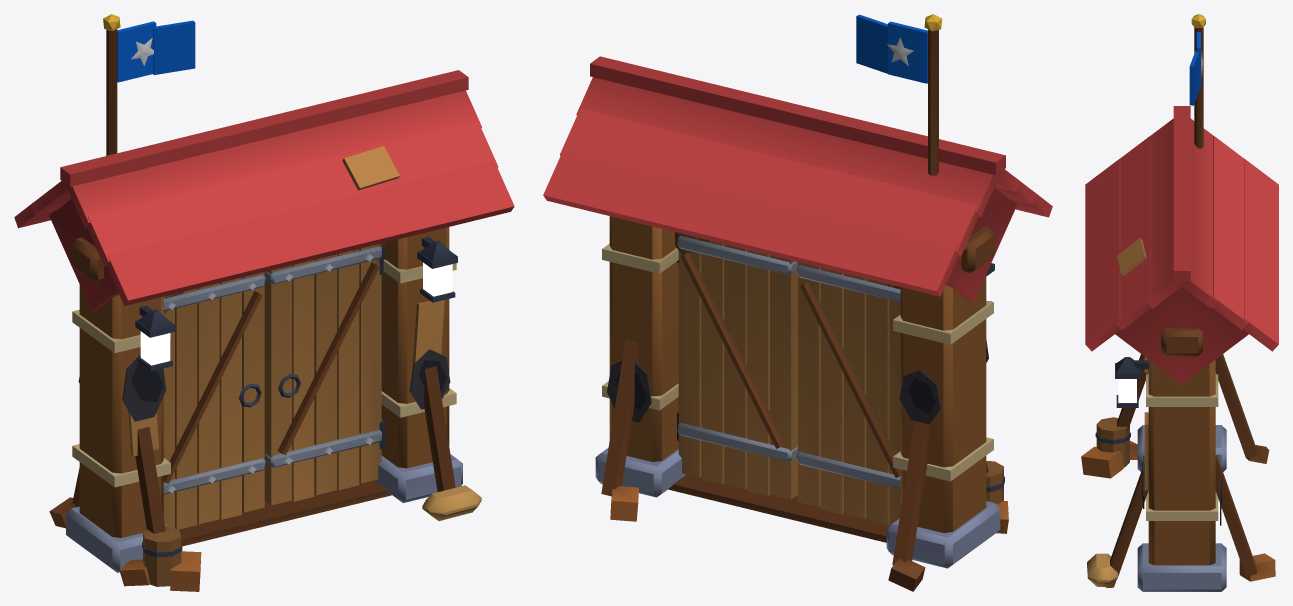
Rendered from b_tor_0.glb.
3 renders of one model, left to right at view 1: azimuth 30°, elevation 25°; view 2: azimuth 150°, elevation 25°; view 3: azimuth 270°, elevation 25°, orthographic. The views are drawn at different scales.
Visible parts, largest first — view 1: body, door_r, door_l, sway_flag, dmg2_body, dmg1_body, lamp_closed_glow, lamp_glow; view 2: body, door_r, door_l, sway_flag, dmg1_body, dmg2_body; view 3: body, dmg2_body, sway_flag, dmg1_body, lamp_glow.
Boxes of the visible parts, x1,y1,x2,y2 form: body: [14, 14, 514, 586]; door_r: [264, 244, 385, 505]; door_l: [163, 272, 265, 529]; sway_flag: [117, 20, 195, 82]; dmg2_body: [119, 354, 201, 591]; dmg1_body: [49, 349, 450, 528]; lamp_closed_glow: [140, 331, 170, 365]; lamp_glow: [423, 262, 452, 296]; body: [543, 14, 1052, 568]; door_r: [677, 233, 797, 499]; door_l: [797, 262, 900, 524]; sway_flag: [856, 14, 927, 83]; dmg1_body: [888, 369, 940, 591]; dmg2_body: [607, 340, 1008, 533]; body: [1085, 14, 1278, 591]; dmg2_body: [1081, 441, 1275, 581]; sway_flag: [1189, 32, 1202, 105]; dmg1_body: [1102, 445, 1269, 587]; lamp_glow: [1118, 379, 1136, 402].
Bounding box in the file's own units: 4.66 × 5.98 × 2.36.
